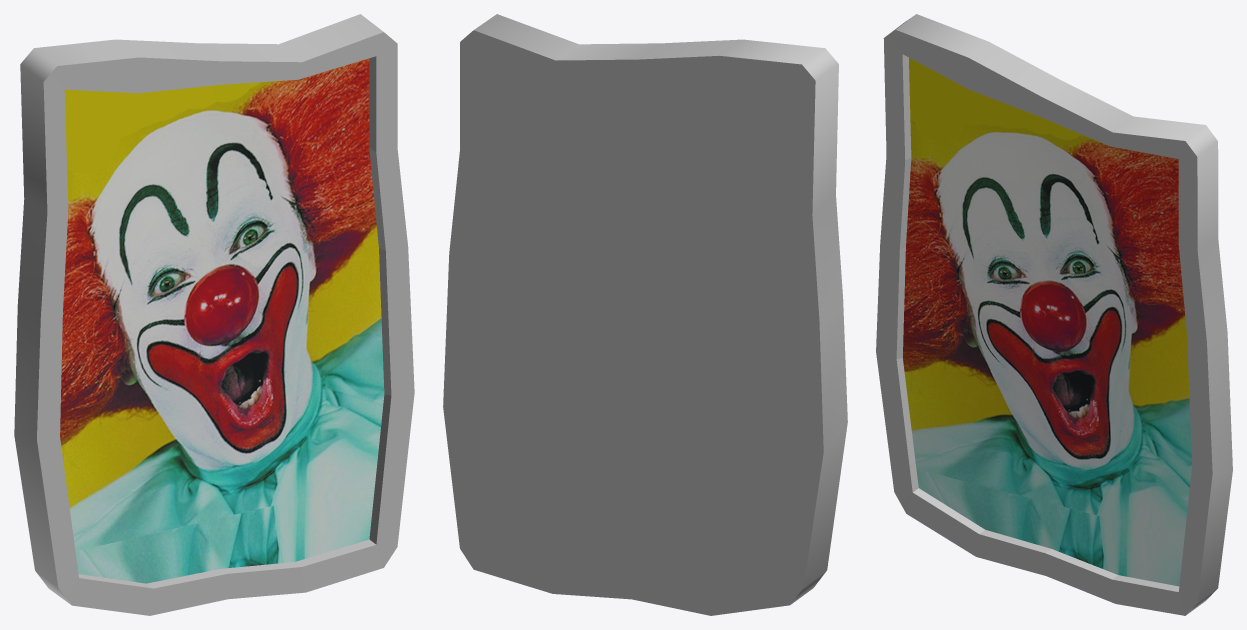
File: Clown.fbx
The picture shows the model from 3 angles, left to right: view 1: azimuth 30°, elevation 25°; view 2: azimuth 150°, elevation 25°; view 3: azimuth 330°, elevation 25°; orthographic projection. The views are drawn at different scales.
Visible parts, largest first — view 1: Box001; view 2: Box001; view 3: Box001.
Part boxes in pixels (x1,y1,x2,y2): Box001: (14,14,414,615); Box001: (443,14,847,615); Box001: (876,14,1232,615).
Size of the model in its own units: 1.88 by 2.78 by 0.213.
